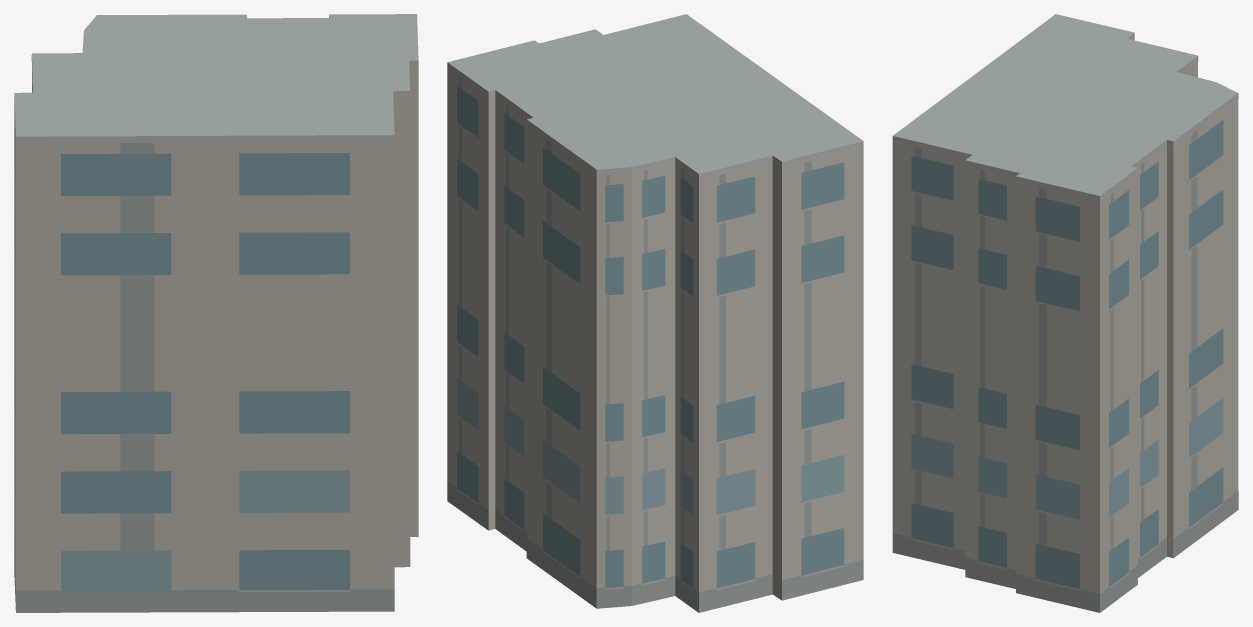
The model's file is survey-upis-33029882.glb.
3 renders of one model, left to right at view 1: azimuth 30°, elevation 25°; view 2: azimuth 150°, elevation 25°; view 3: azimuth 270°, elevation 25°, orthographic. The views are drawn at different scales.
Visible parts, largest first — view 1: survey-upis-33029882.tmp; view 2: survey-upis-33029882.tmp; view 3: survey-upis-33029882.tmp.
Part boxes in pixels (bbox=[...]): survey-upis-33029882.tmp: bbox=[14, 14, 418, 612]; survey-upis-33029882.tmp: bbox=[447, 14, 863, 612]; survey-upis-33029882.tmp: bbox=[892, 14, 1238, 612].
Size of the model in its own units: 15.93 by 17 by 12.79.
